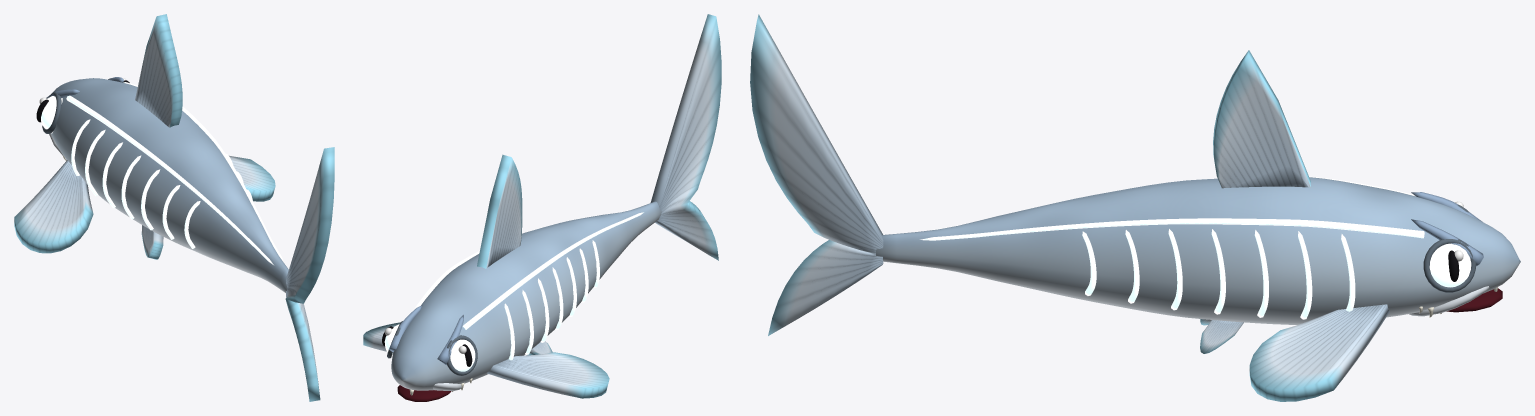
File: GhostShark.glb
3 renders of one model, left to right at view 1: azimuth 30°, elevation 25°; view 2: azimuth 150°, elevation 25°; view 3: azimuth 270°, elevation 25°, orthographic. The views are drawn at different scales.
Parts seen in each view (by area): view 1: GhostShark, GhostShark_Glow; view 2: GhostShark, GhostShark_Glow; view 3: GhostShark, GhostShark_Glow.
Part boxes in pixels (left/top/right/bottom): GhostShark: left=14, top=14, right=334, bottom=401; GhostShark_Glow: left=41, top=82, right=283, bottom=264; GhostShark: left=363, top=14, right=721, bottom=401; GhostShark_Glow: left=384, top=210, right=643, bottom=371; GhostShark: left=750, top=14, right=1520, bottom=401; GhostShark_Glow: left=920, top=176, right=1471, bottom=319.
Size of the model in its own units: 2.59 by 2.54 by 5.48.
Materials: 2 (1 with a texture image).
